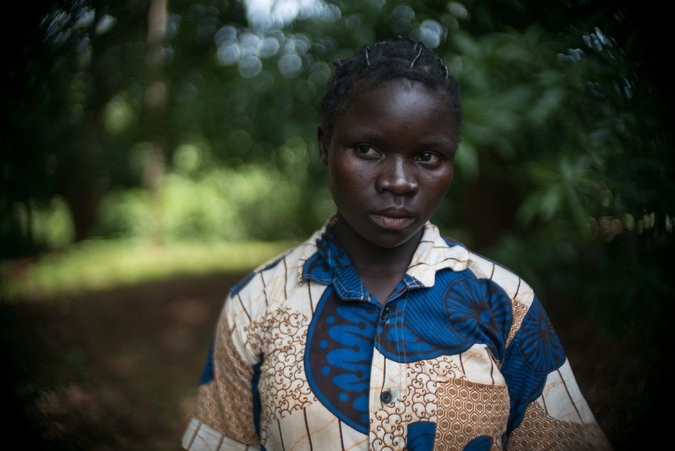face_no_mask: (318, 42, 457, 249)
